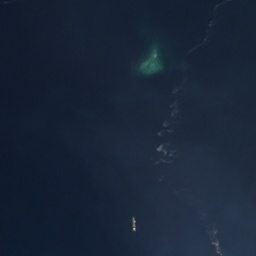Marine Debris: (156, 34, 210, 139), (155, 144, 176, 165), (213, 241, 223, 256), (212, 229, 217, 235)
